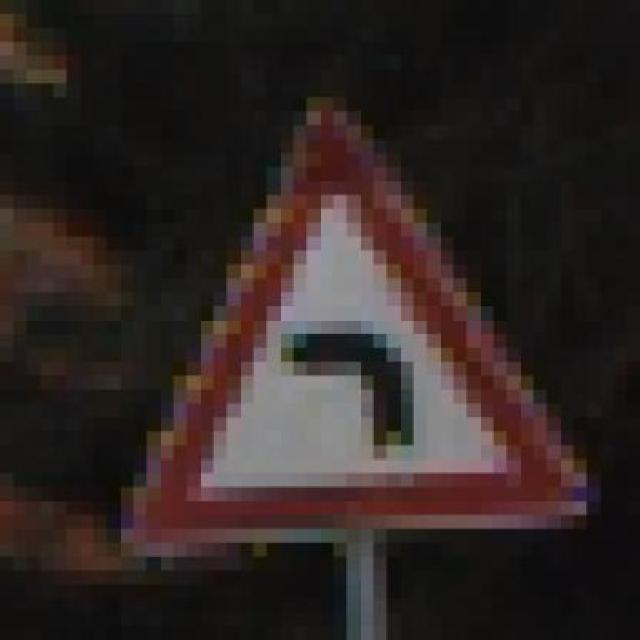Dangerous Left Curve Ahead: (93, 83, 601, 557)
